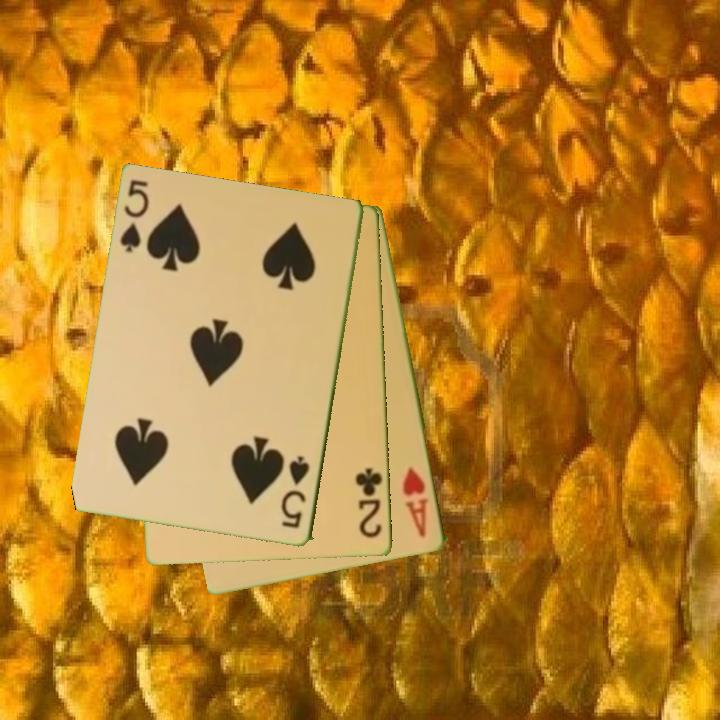2c: (352, 465, 386, 541)
5s: (117, 177, 153, 256), (278, 452, 313, 532)
Ah: (399, 464, 432, 541)
